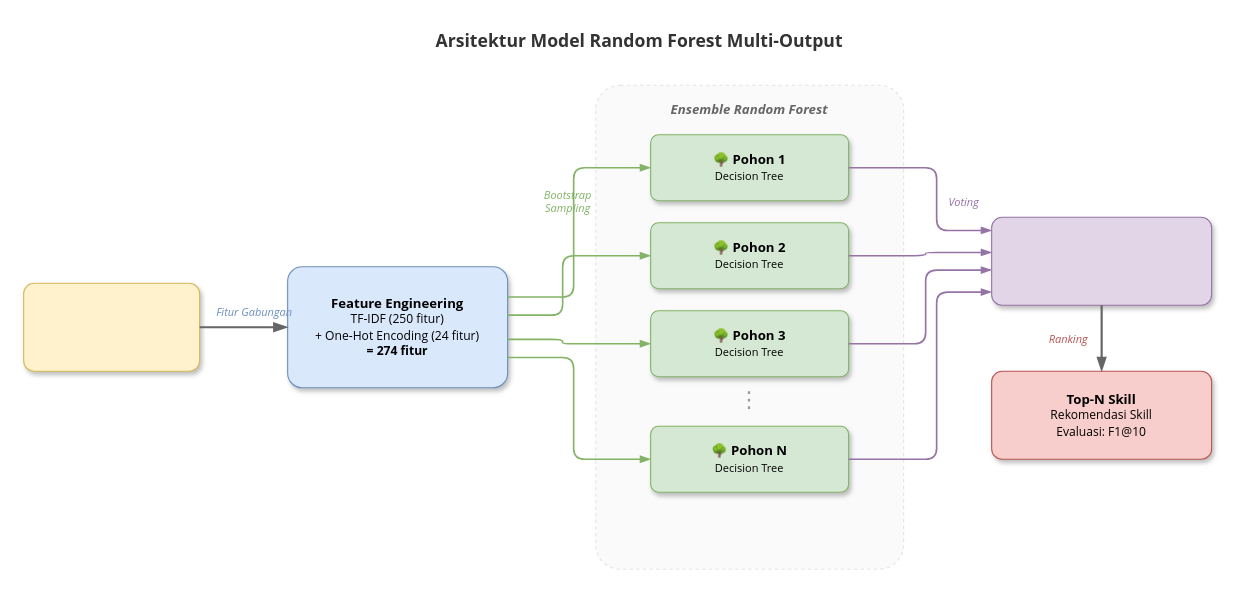
Some shapes in this 1238 by 589 pixel diagram are drawn without their labels. Here are the shapes that lost their labels. From the top down, the centre of each, then its label:
At (1102,262): "Agregasi Multi-Output Majority Voting 250 Label Skill".
At (112,328): "Input Skill Pengguna + Target Kategori".
